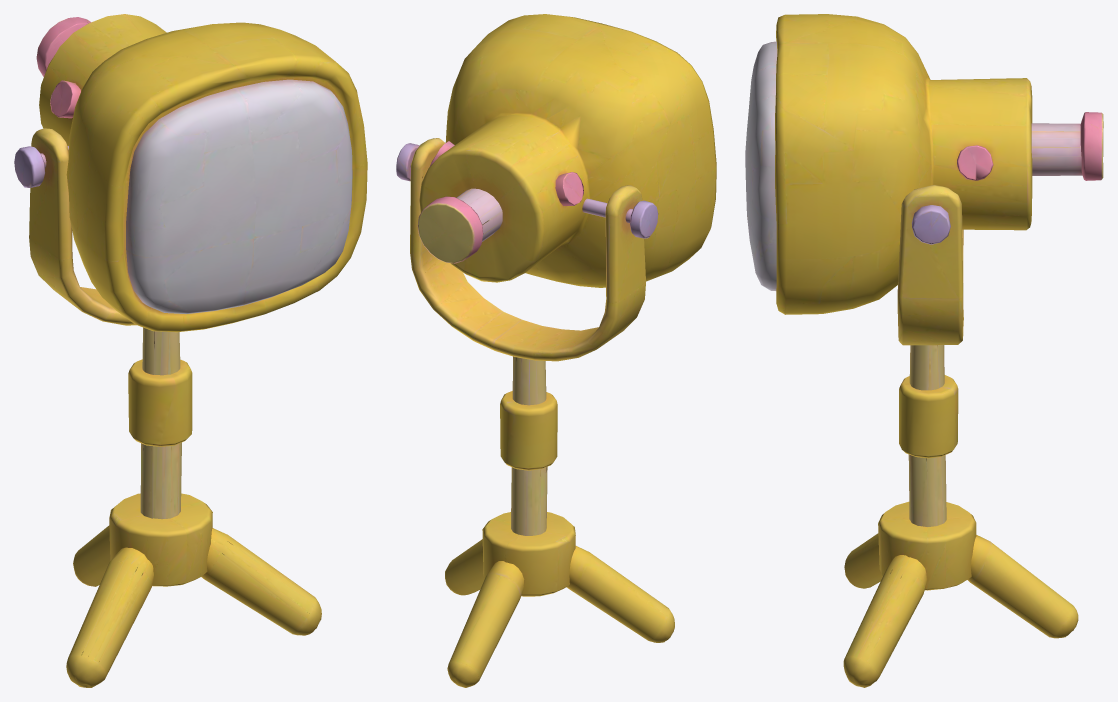
File: softbox-light.glb
3 renders of one model, left to right at view 1: azimuth 30°, elevation 25°; view 2: azimuth 150°, elevation 25°; view 3: azimuth 270°, elevation 25°, orthographic. The views are drawn at different scales.
Parts seen in each view (by area): view 1: geometry_0; view 2: geometry_0; view 3: geometry_0.
Boxes of the visible parts, x1,y1,x2,y2 form: geometry_0: [14, 14, 367, 687]; geometry_0: [396, 14, 716, 687]; geometry_0: [745, 14, 1103, 687].
Size of the model in its own units: 0.4571 by 1 by 0.5494.
1 material, 1 textured.
